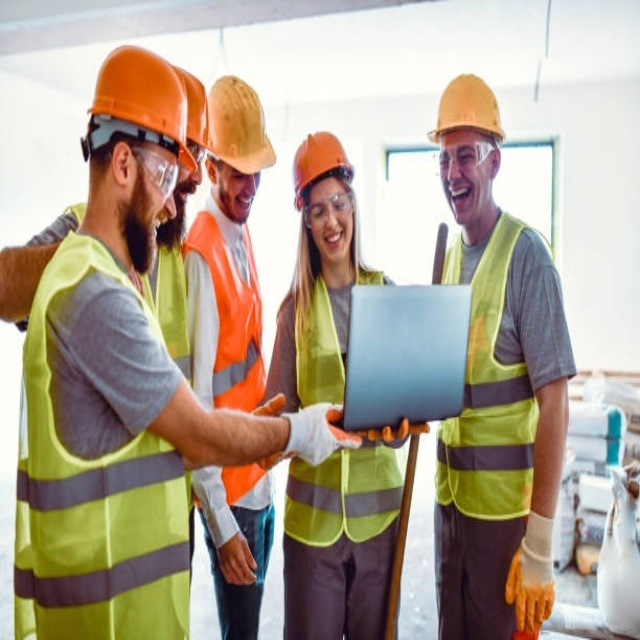Gafas: (129, 144, 177, 198), (304, 188, 357, 229), (438, 141, 494, 177), (185, 138, 208, 168)
Guantes: (502, 507, 559, 634), (276, 398, 364, 466), (365, 414, 433, 450)
Sin_gafas: (214, 162, 261, 185)
Sin_guantes: (215, 526, 259, 587)
Sin_mascara: (175, 179, 200, 221), (319, 227, 349, 259), (445, 182, 476, 212), (234, 188, 261, 218)
